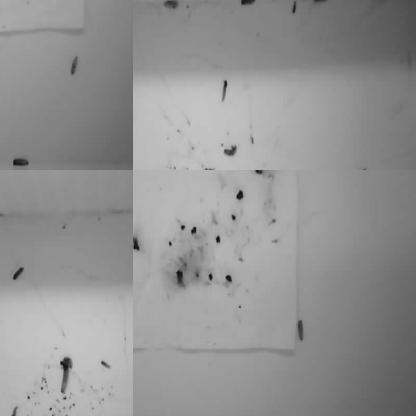PtecticusTenebrifer: (61, 362, 70, 396), (12, 266, 26, 282), (70, 55, 79, 78), (223, 144, 238, 157), (237, 170, 253, 181), (298, 316, 305, 341), (12, 157, 31, 166), (221, 79, 228, 103), (239, 0, 257, 7), (265, 170, 278, 179), (241, 170, 255, 178), (133, 176, 141, 189), (0, 76, 5, 93), (312, 0, 329, 5), (11, 404, 18, 416), (88, 0, 96, 10), (0, 215, 8, 224), (133, 170, 142, 177), (0, 0, 5, 9), (0, 0, 4, 10), (0, 0, 5, 4)
